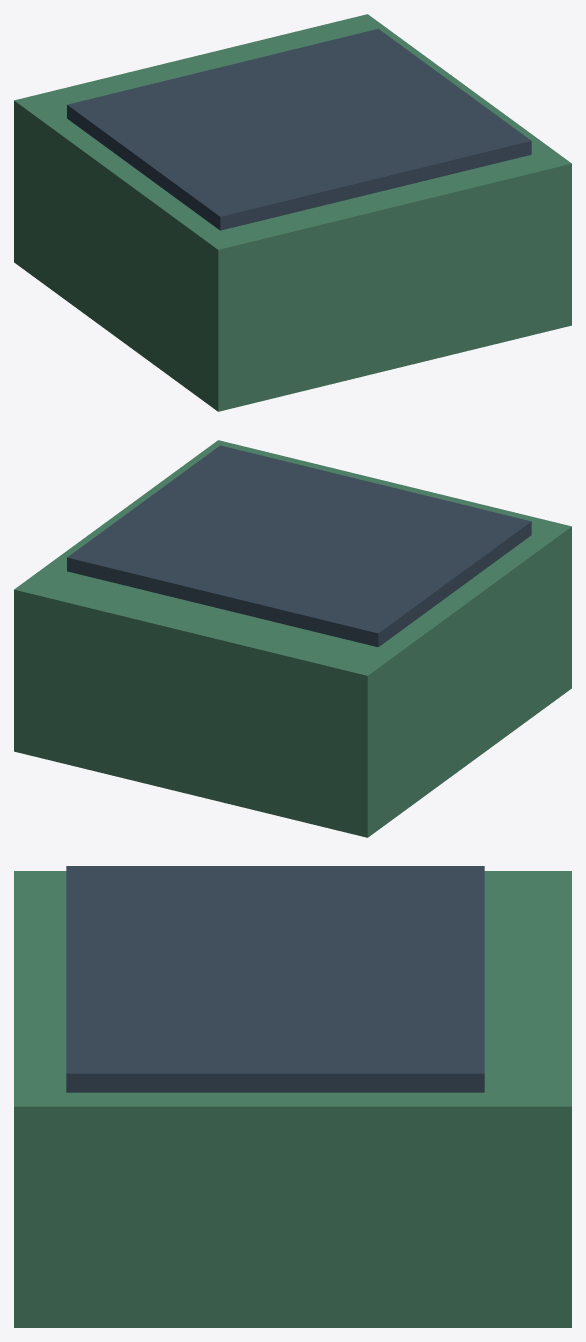
The model's file is max7219-8x8.glb.
The picture shows the model from 3 angles, top to bottom: view 1: azimuth 30°, elevation 25°; view 2: azimuth 150°, elevation 25°; view 3: azimuth 270°, elevation 25°; orthographic projection. The views are drawn at different scales.
Parts seen in each view (by area): view 1: max7219-8x8-pcb, max7219-8x8-display; view 2: max7219-8x8-pcb, max7219-8x8-display; view 3: max7219-8x8-pcb, max7219-8x8-display.
Boxes of the visible parts, <box> form: max7219-8x8-pcb: <box>14,14,571,411</box>; max7219-8x8-display: <box>67,28,531,230</box>; max7219-8x8-pcb: <box>14,440,571,837</box>; max7219-8x8-display: <box>67,445,531,647</box>; max7219-8x8-pcb: <box>14,871,571,1327</box>; max7219-8x8-display: <box>66,866,484,1092</box>.
Bounding box in the file's own units: 0.032 × 0.0152 × 0.032.
